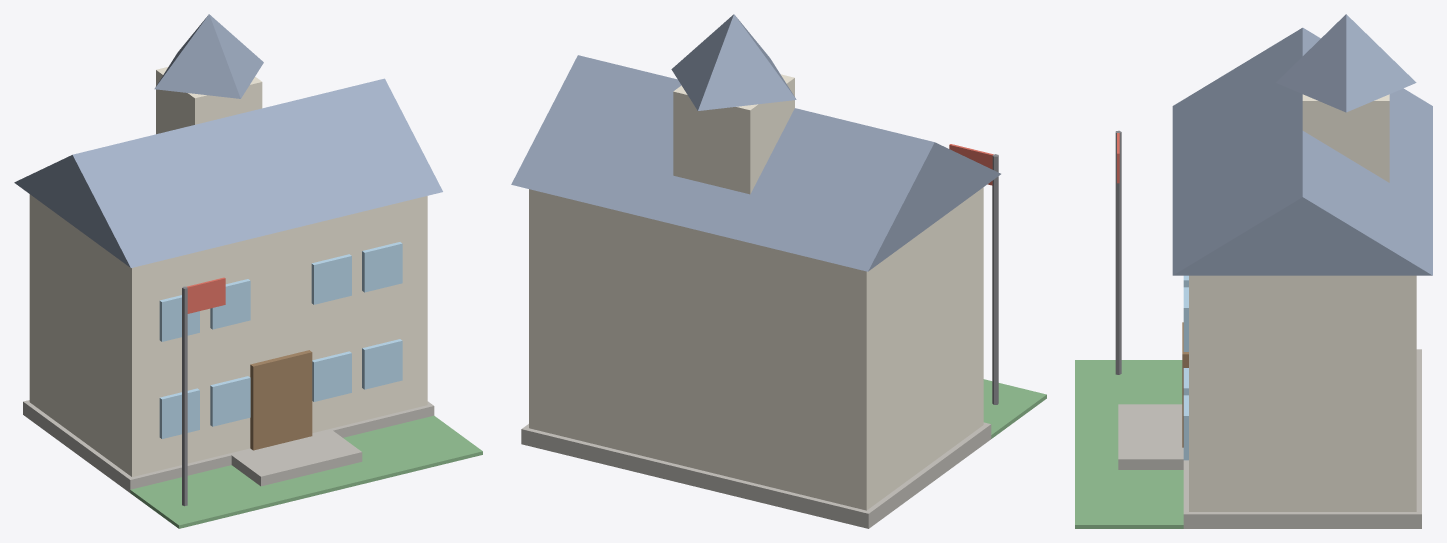
File: school.glb
3 renders of one model, left to right at view 1: azimuth 30°, elevation 25°; view 2: azimuth 150°, elevation 25°; view 3: azimuth 270°, elevation 25°, orthographic. The views are drawn at different scales.
Parts seen in each view (by area): view 1: school; view 2: school; view 3: school.
Part boxes in pixels (left/top/right/bottom): school: left=14, top=14, right=482, bottom=528; school: left=511, top=14, right=1046, bottom=528; school: left=1075, top=14, right=1432, bottom=528.
Bounding box in the file's own units: 7.4 × 8.8 × 6.6.
